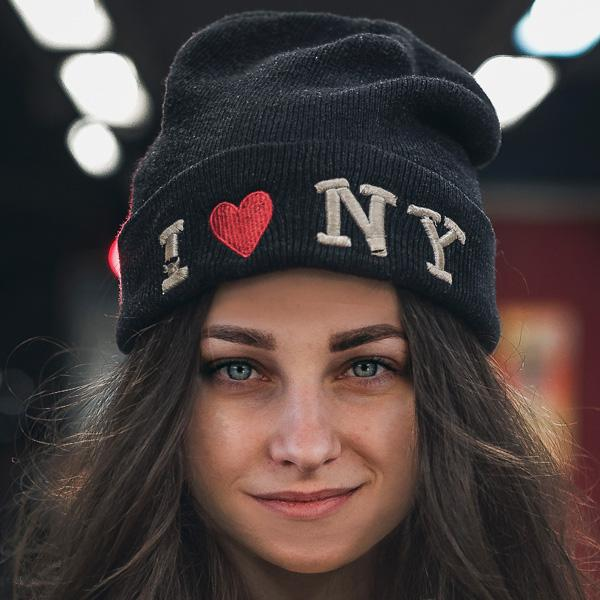Eyes: (195, 345, 277, 399), (325, 345, 404, 394)
